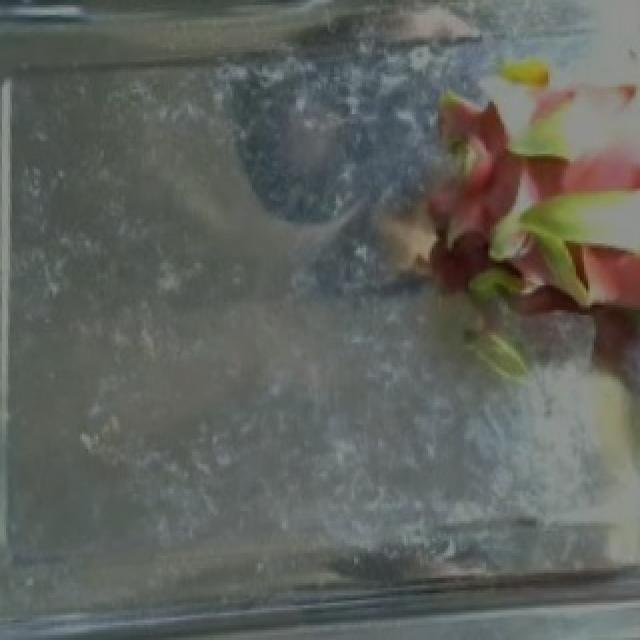fruit: (372, 18, 640, 420)
